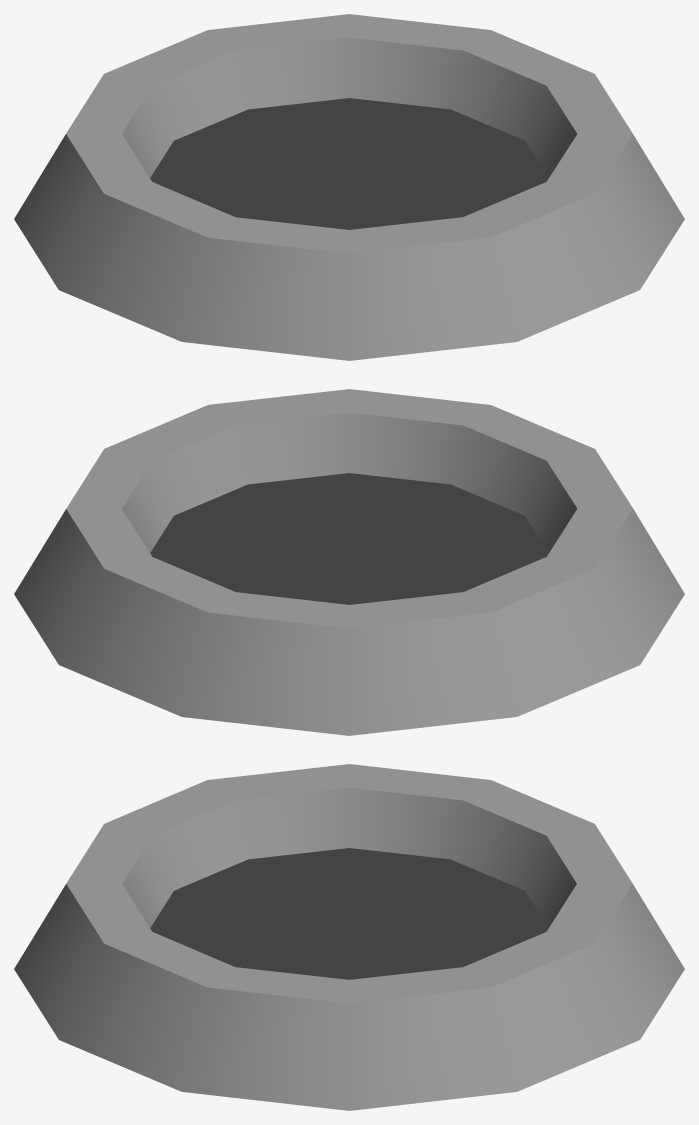
Rendered from space_station_decoration_015.fbx.
3 views of the same model, one above another, from view 1: azimuth 30°, elevation 25°; view 2: azimuth 150°, elevation 25°; view 3: azimuth 270°, elevation 25° (orthographic).
Visible parts, largest first — view 1: space_station_decoration_015; view 2: space_station_decoration_015; view 3: space_station_decoration_015.
Boxes of the visible parts, x1,y1,x2,y2 form: space_station_decoration_015: (14, 14, 684, 360); space_station_decoration_015: (14, 389, 684, 735); space_station_decoration_015: (14, 764, 684, 1110).
Size of the model in its own units: 171 by 171 by 24.05.
